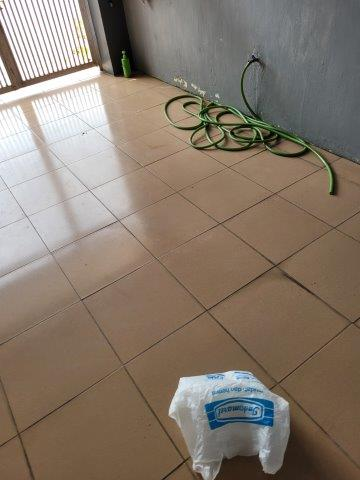plastik: (169, 370, 291, 479)
